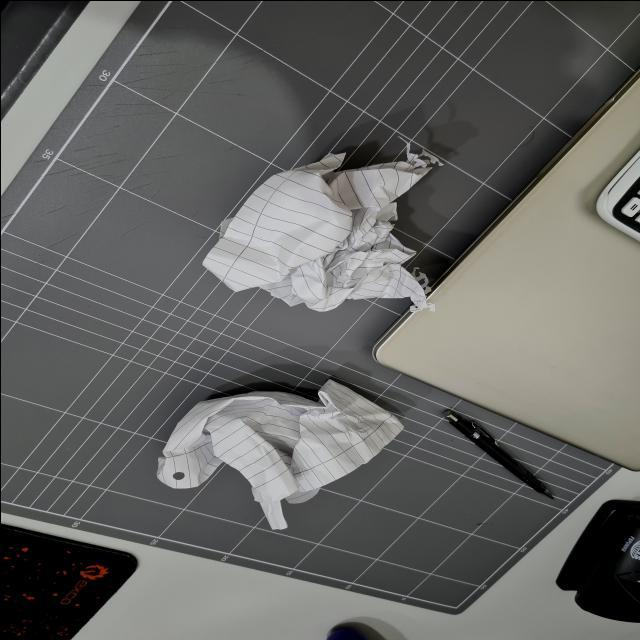Paper: (154, 144, 490, 332), (126, 385, 432, 543)
